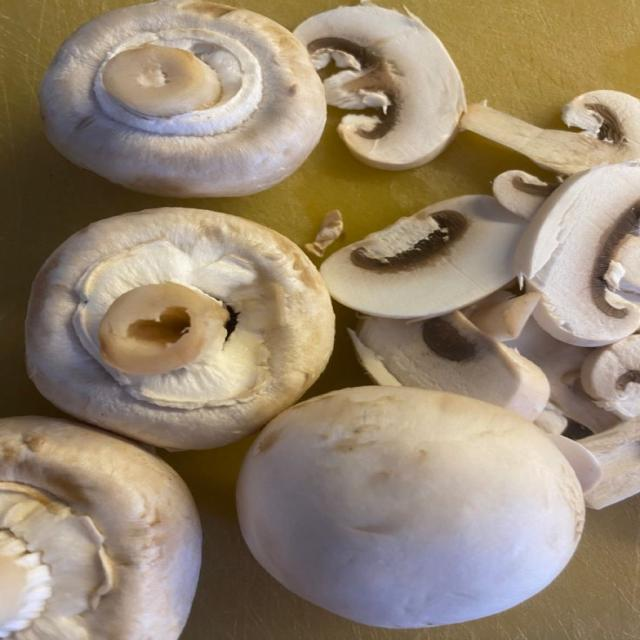champignon mushrooms: (238, 387, 584, 627), (27, 209, 333, 448), (40, 0, 326, 197), (0, 417, 200, 639), (294, 2, 465, 169), (320, 196, 526, 318), (515, 162, 639, 346), (351, 312, 549, 420), (460, 91, 639, 174), (506, 319, 617, 432), (574, 419, 639, 508), (581, 335, 639, 419), (467, 291, 541, 341), (493, 170, 558, 219), (305, 210, 343, 257)
